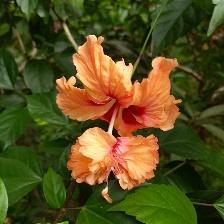hibiscus: (58, 38, 180, 201)
